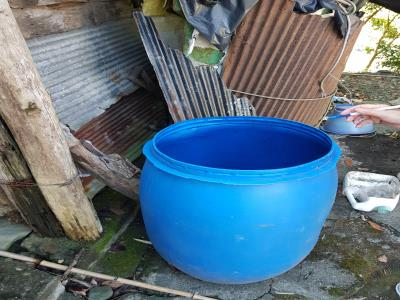bottle: (343, 169, 400, 222)
bowl: (135, 114, 343, 289)
